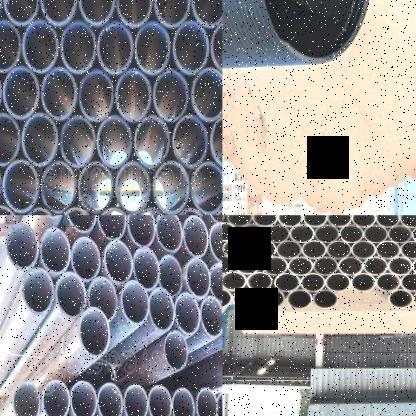pipe: (257, 0, 372, 65), (2, 66, 40, 119), (2, 159, 39, 213), (134, 114, 170, 169), (134, 20, 170, 75), (40, 162, 78, 214), (172, 21, 209, 74), (154, 161, 190, 215), (96, 114, 132, 168), (21, 113, 58, 165), (115, 162, 151, 215), (172, 115, 208, 168), (116, 68, 152, 121), (98, 22, 134, 75), (60, 21, 96, 74), (153, 70, 189, 122), (78, 69, 114, 121), (22, 21, 58, 73), (61, 115, 96, 168), (78, 162, 114, 213), (41, 68, 77, 119), (190, 67, 223, 121), (190, 161, 223, 213), (78, 306, 110, 358), (6, 222, 38, 271), (22, 268, 54, 315), (56, 271, 86, 319), (87, 276, 118, 322), (40, 227, 71, 273), (71, 237, 101, 282), (121, 280, 150, 325), (104, 240, 133, 285), (132, 248, 160, 291), (149, 287, 174, 332), (0, 112, 20, 167), (0, 20, 21, 72), (175, 292, 200, 335), (183, 216, 208, 258), (154, 0, 190, 29), (13, 380, 42, 416), (42, 379, 70, 416), (156, 215, 184, 252), (159, 255, 183, 298), (116, 0, 152, 28), (78, 0, 116, 26), (70, 380, 97, 416), (40, 0, 77, 26), (164, 330, 188, 370), (186, 258, 210, 298), (127, 215, 156, 248), (3, 0, 39, 26), (200, 296, 222, 338), (192, 0, 223, 29), (97, 382, 122, 416), (124, 383, 148, 416), (96, 215, 126, 240), (148, 385, 171, 416), (172, 387, 195, 416), (210, 114, 222, 168), (210, 20, 222, 74), (196, 387, 217, 416), (246, 271, 274, 292), (65, 215, 97, 233), (286, 289, 313, 310), (274, 272, 301, 293), (222, 238, 250, 258), (234, 255, 262, 275), (238, 223, 266, 243), (264, 223, 290, 244), (314, 223, 340, 244), (300, 272, 326, 293), (209, 223, 222, 264), (258, 289, 286, 308), (233, 288, 258, 309), (313, 289, 338, 310), (209, 262, 222, 302), (363, 256, 389, 276), (313, 256, 339, 276), (250, 240, 277, 259), (351, 240, 376, 260), (338, 256, 363, 276), (388, 256, 413, 276), (288, 256, 313, 276), (301, 240, 327, 259), (276, 240, 302, 259), (289, 224, 315, 243), (262, 256, 288, 275), (389, 289, 413, 309), (351, 273, 376, 292), (326, 273, 351, 292), (327, 240, 352, 259), (339, 224, 364, 243), (364, 225, 388, 244), (223, 271, 247, 290), (376, 273, 400, 291), (388, 226, 412, 244), (376, 241, 400, 259), (400, 271, 416, 292), (351, 215, 376, 228), (225, 215, 252, 227), (400, 239, 416, 259), (252, 215, 278, 227), (376, 215, 400, 228), (277, 215, 303, 227), (222, 222, 237, 242), (302, 215, 327, 227), (327, 215, 351, 227), (222, 254, 234, 274), (222, 287, 232, 308), (399, 215, 416, 227), (216, 392, 222, 416), (412, 256, 416, 276), (412, 225, 416, 244), (413, 288, 416, 309)
